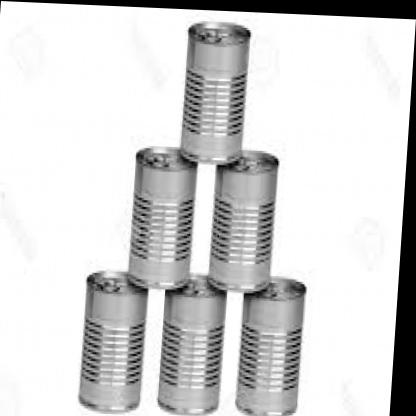Metal: (48, 15, 342, 416)
